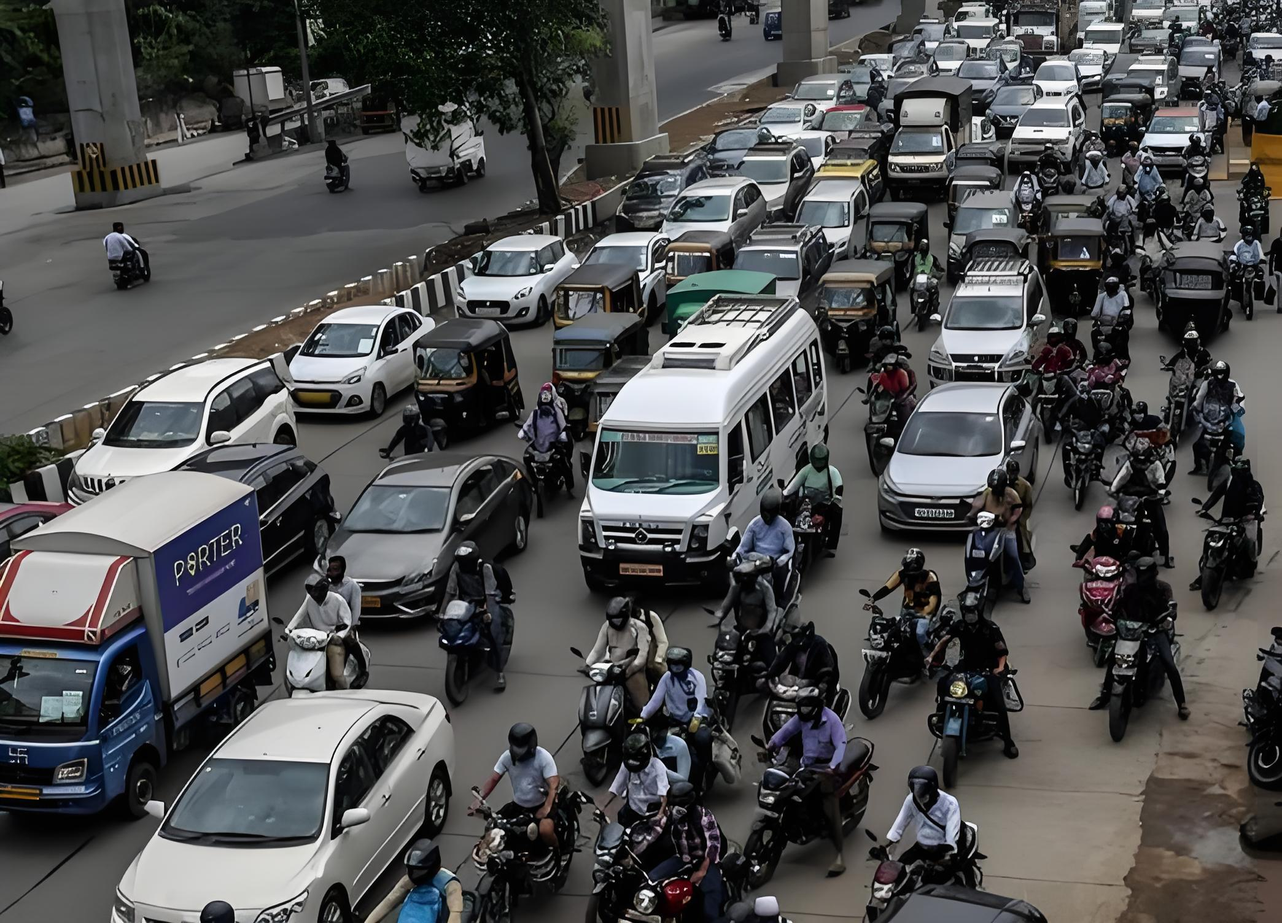car: (2, 377, 336, 826), (100, 690, 456, 920), (570, 311, 815, 595), (311, 434, 526, 644), (78, 355, 276, 481), (165, 438, 343, 558), (887, 366, 1027, 518), (273, 325, 451, 434), (934, 261, 1042, 385), (461, 220, 537, 318), (590, 221, 667, 315), (683, 176, 765, 258), (945, 186, 1028, 261), (749, 218, 811, 315), (1149, 98, 1206, 187), (736, 136, 793, 220), (1016, 83, 1070, 169), (1036, 57, 1104, 118), (798, 166, 847, 245), (797, 68, 866, 123), (823, 138, 879, 203), (636, 150, 686, 220), (771, 98, 825, 161), (710, 125, 755, 193), (785, 117, 828, 177), (756, 100, 810, 147), (965, 50, 1002, 109), (1000, 87, 1036, 136), (939, 29, 971, 83)
motorbike: (752, 728, 889, 870), (914, 640, 1036, 773), (1098, 617, 1207, 748), (462, 792, 591, 902), (546, 646, 670, 760), (418, 329, 543, 439), (852, 585, 938, 733), (587, 797, 704, 886), (702, 598, 805, 693), (1191, 493, 1263, 614), (626, 848, 739, 923), (1054, 543, 1129, 650), (545, 303, 622, 396), (553, 260, 635, 347), (1038, 215, 1113, 306), (1167, 256, 1235, 353), (864, 197, 928, 284), (308, 133, 380, 207), (821, 262, 882, 343), (847, 370, 904, 455), (1148, 358, 1195, 457), (1055, 418, 1111, 498), (1204, 11, 1269, 64), (901, 242, 944, 321), (1229, 260, 1273, 335), (97, 228, 149, 289), (1038, 361, 1079, 433), (668, 223, 720, 272), (1100, 96, 1143, 155), (1138, 249, 1168, 319), (1109, 199, 1138, 269), (1235, 193, 1270, 242), (1181, 156, 1217, 193)
person: (376, 819, 515, 923), (473, 711, 571, 822), (633, 638, 729, 749), (432, 531, 513, 661), (892, 760, 981, 866), (765, 685, 855, 774), (294, 568, 379, 661), (935, 593, 1012, 695), (864, 553, 938, 645), (601, 738, 669, 828), (981, 451, 1039, 531), (1124, 561, 1181, 642), (603, 595, 669, 662), (1084, 493, 1136, 577), (1214, 446, 1265, 525), (1094, 282, 1143, 343), (1200, 368, 1239, 439), (1087, 338, 1130, 400), (1075, 150, 1118, 194), (1125, 153, 1161, 198)
